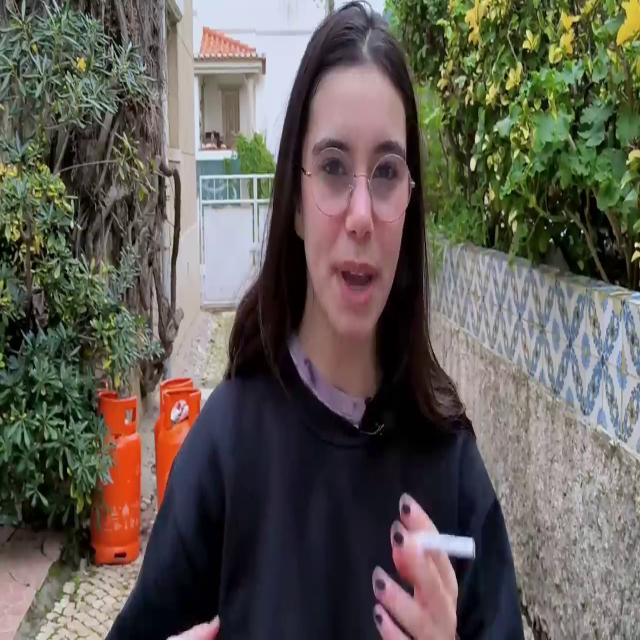Smooking: (410, 520, 490, 565)
